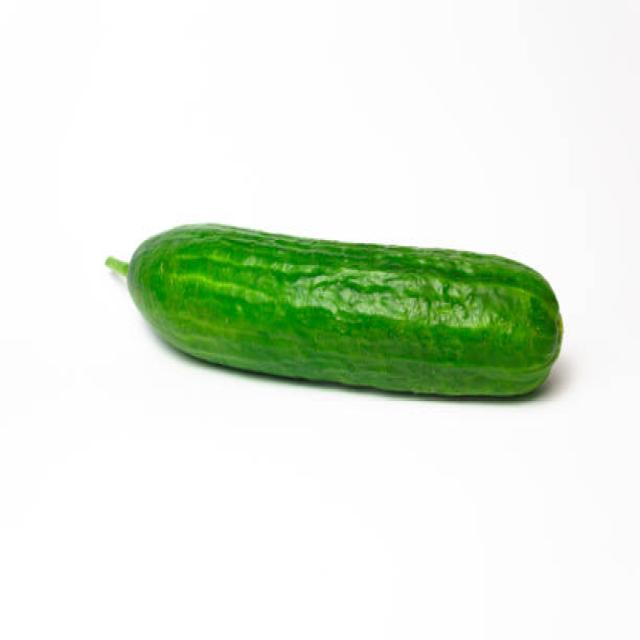cucumber: (128, 218, 562, 398)
